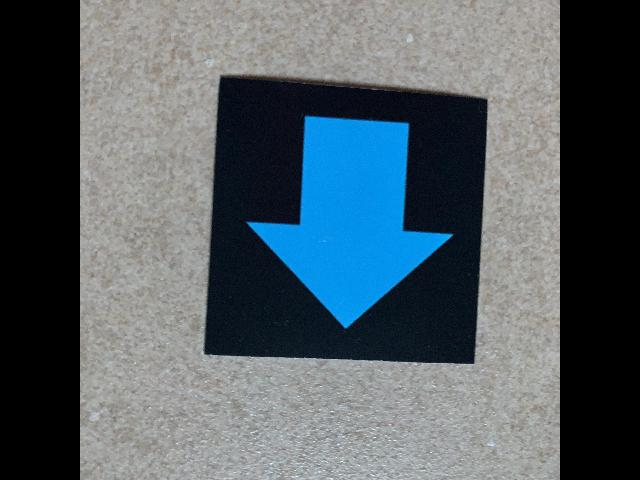down_arrow: (203, 72, 489, 370)
